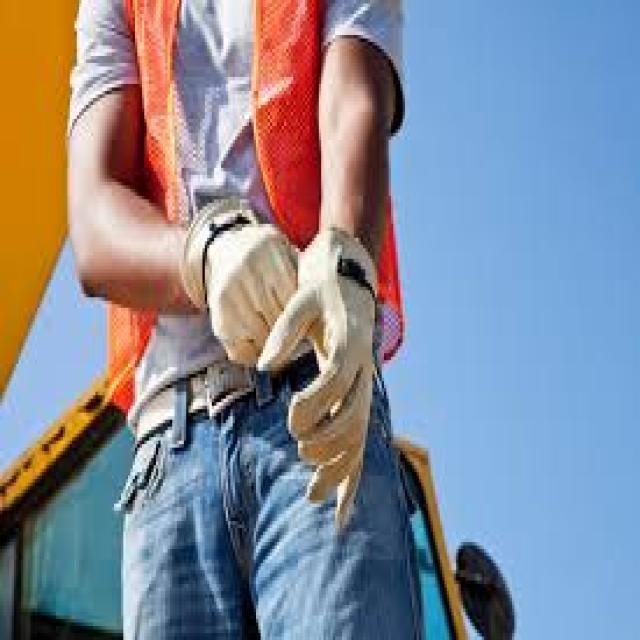gloved: (254, 224, 378, 528), (177, 198, 302, 358)
